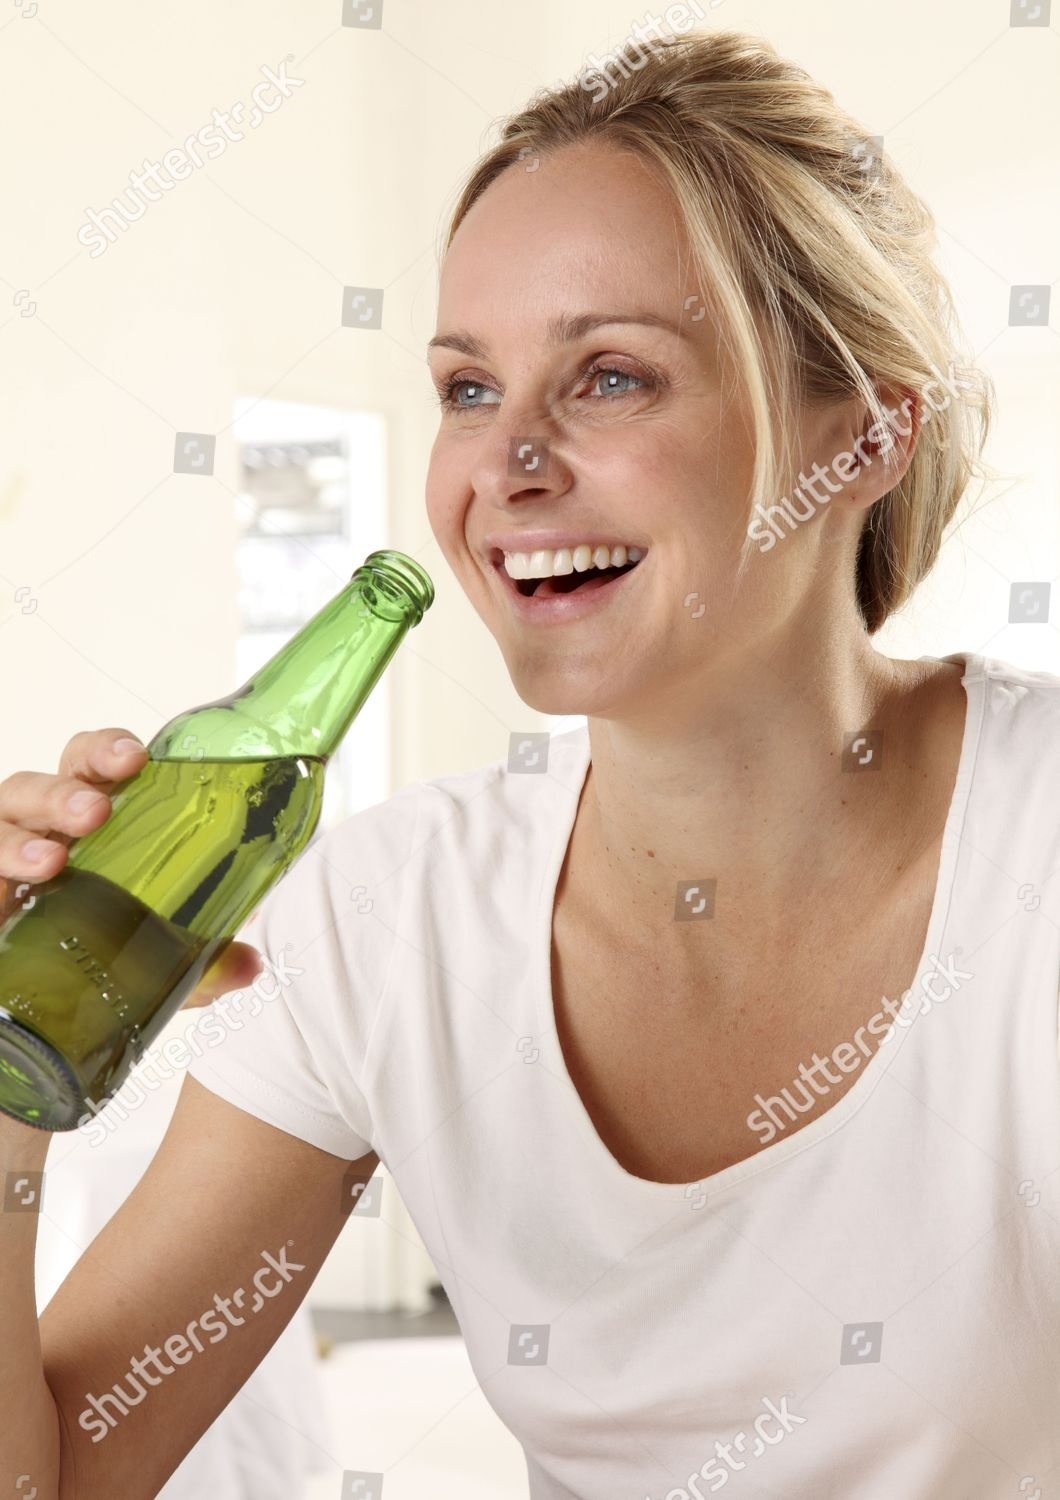beerBottle: (7, 554, 438, 1110)
